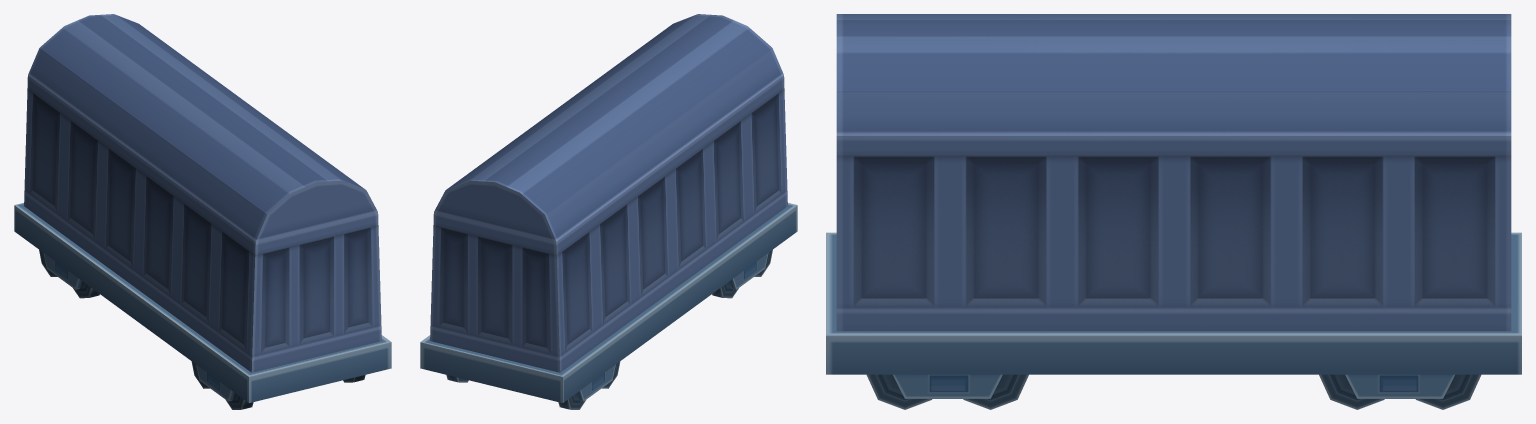
Rendered from Train01.FBX.
3 renders of one model, left to right at view 1: azimuth 30°, elevation 25°; view 2: azimuth 150°, elevation 25°; view 3: azimuth 270°, elevation 25°, orthographic. The views are drawn at different scales.
Visible parts, largest first — view 1: Train01; view 2: Train01; view 3: Train01.
Part boxes in pixels (x1,y1,x2,y2): Train01: (14,14,391,409); Train01: (420,14,797,409); Train01: (826,14,1521,409).
Bounding box in the file's own units: 200 × 308 × 570.
